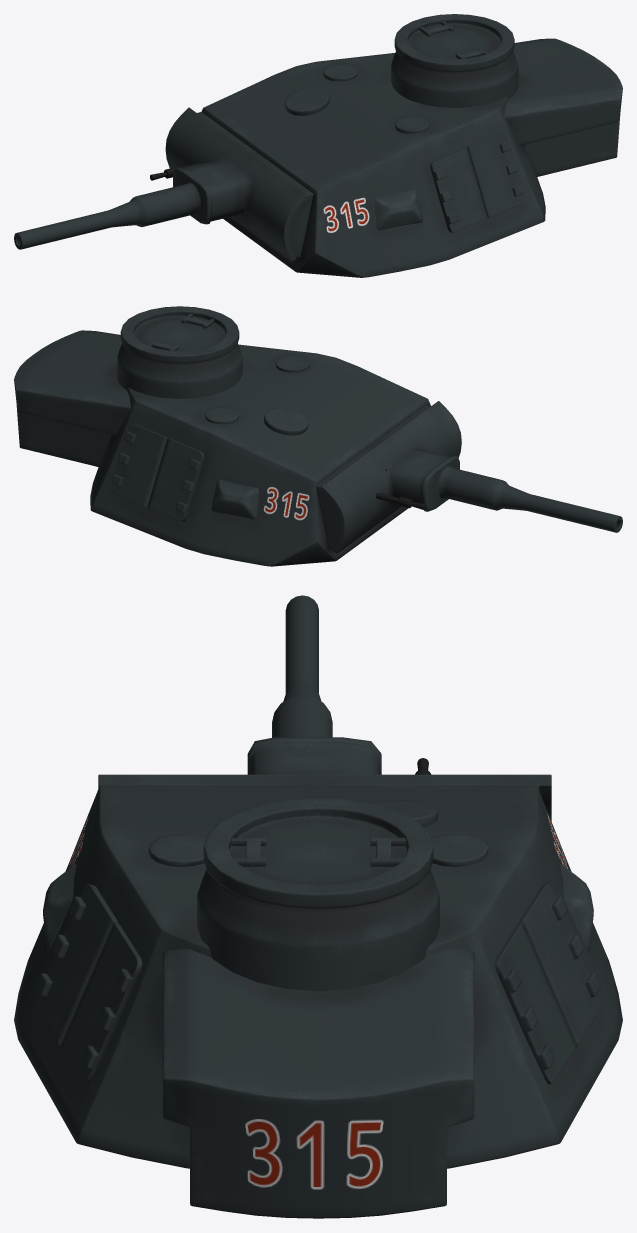
File: tank_turret.obj
3 views of the same model, one above another, from view 1: azimuth 30°, elevation 25°; view 2: azimuth 150°, elevation 25°; view 3: azimuth 270°, elevation 25° (orthographic). The views are drawn at different scales.
Visible parts, largest first — view 1: tank_turret_tank_turret_14077_WWII_Tank_Germany_Panzer_III_v1_L2; view 2: tank_turret_tank_turret_14077_WWII_Tank_Germany_Panzer_III_v1_L2; view 3: tank_turret_tank_turret_14077_WWII_Tank_Germany_Panzer_III_v1_L2.
Boxes of the visible parts, <box> form: tank_turret_tank_turret_14077_WWII_Tank_Germany_Panzer_III_v1_L2: <box>14,14,622,277</box>; tank_turret_tank_turret_14077_WWII_Tank_Germany_Panzer_III_v1_L2: <box>14,306,622,566</box>; tank_turret_tank_turret_14077_WWII_Tank_Germany_Panzer_III_v1_L2: <box>14,595,622,1218</box>.
Bounding box in the file's own units: 2.36 × 0.5791 × 1.1.
Materials: 1 (1 with a texture image).
